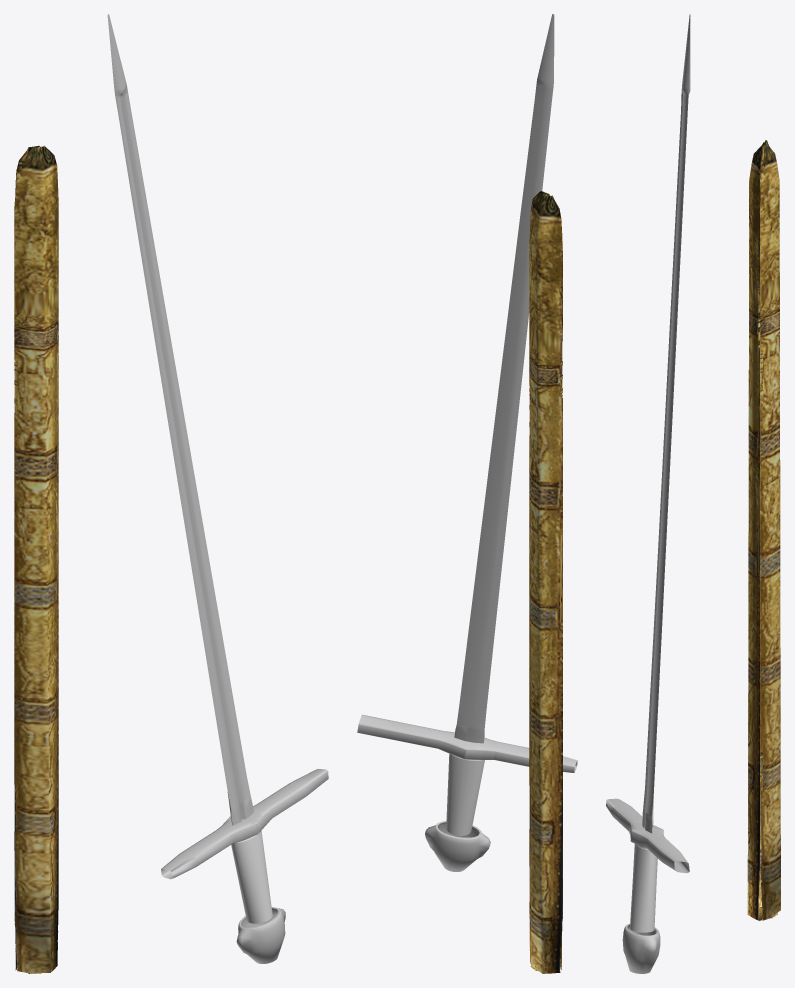
Rendered from sword.dae.
The picture shows the model from 3 angles, left to right: view 1: azimuth 30°, elevation 25°; view 2: azimuth 150°, elevation 25°; view 3: azimuth 270°, elevation 25°; orthographic projection. The views are drawn at different scales.
Visible parts, largest first — view 1: Cube_Cube.001, Mesh_(2)_Mesh.004, Mesh_(2)_Mesh.003, Mesh_(2)_Mesh.002, Mesh_(2)_Mesh.001, Cube_Cube.003; view 2: Cube_Cube.003, Mesh_(2)_Mesh.004, Mesh_(2)_Mesh.003, Mesh_(2)_Mesh.002, Mesh_(2)_Mesh.001; view 3: Cube_Cube.003, Cube_Cube.001, Mesh_(2)_Mesh.004, Mesh_(2)_Mesh.002, Mesh_(2)_Mesh.003, Mesh_(2)_Mesh.001.
Part boxes in pixels (x1,y1,x2,y2): Cube_Cube.001: (14,145,58,972); Mesh_(2)_Mesh.004: (107,14,253,825); Mesh_(2)_Mesh.003: (161,769,328,879); Mesh_(2)_Mesh.002: (231,830,272,923); Mesh_(2)_Mesh.001: (236,907,285,963); Cube_Cube.003: (14,145,58,973); Cube_Cube.003: (529,192,562,973); Mesh_(2)_Mesh.004: (454,14,554,743); Mesh_(2)_Mesh.003: (357,714,577,772); Mesh_(2)_Mesh.002: (446,753,484,835); Mesh_(2)_Mesh.001: (425,821,490,871); Cube_Cube.003: (758,140,780,920); Cube_Cube.001: (747,142,777,920); Mesh_(2)_Mesh.004: (642,14,690,833); Mesh_(2)_Mesh.002: (630,844,657,932); Mesh_(2)_Mesh.003: (606,798,689,873); Mesh_(2)_Mesh.001: (622,923,660,973).
Size of the model in its own units: 5.14 by 3.15 by 18.12.
